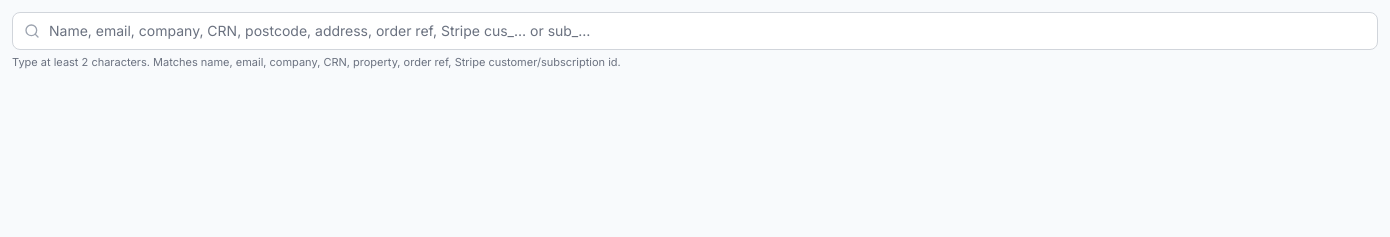
Test case: AdminClientSupportSearch › calls globalSearch and invokes navigate to control panel on row select
Later steps or results of the test are not shown.
Replace the text in the field with test id "admin-client-support-search-input" with "ab" at (695, 31), box [12,12,1378,50]
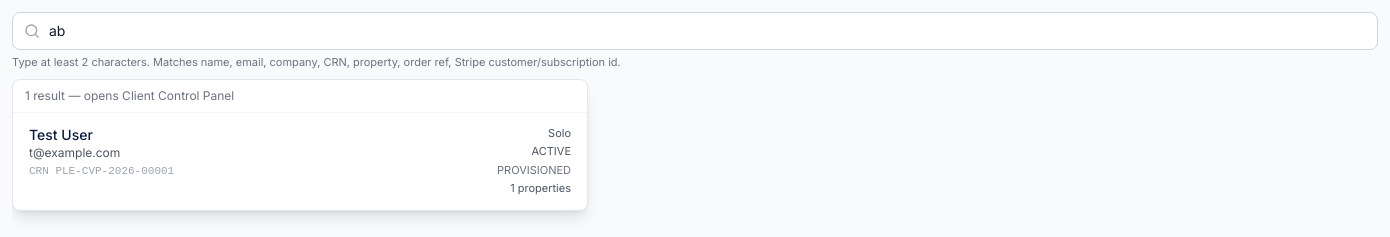
Expected: the element with test id "admin-client-support-search-results" is shown, [12,78,588,210]
